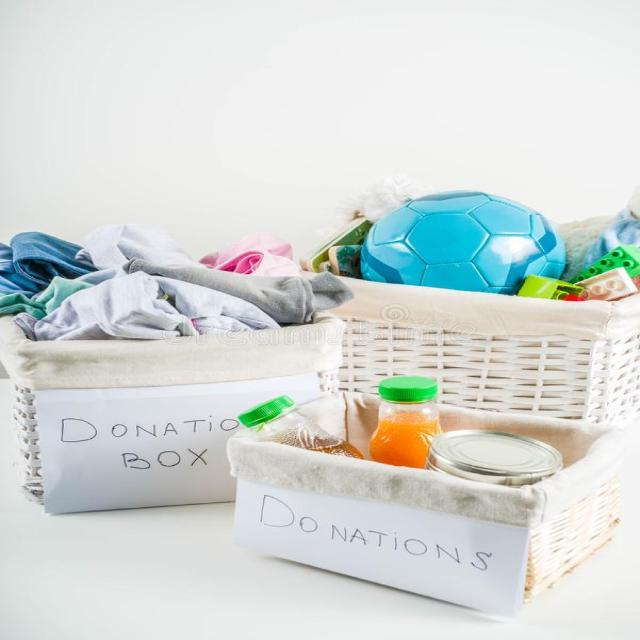clothes: (28, 210, 302, 344)
